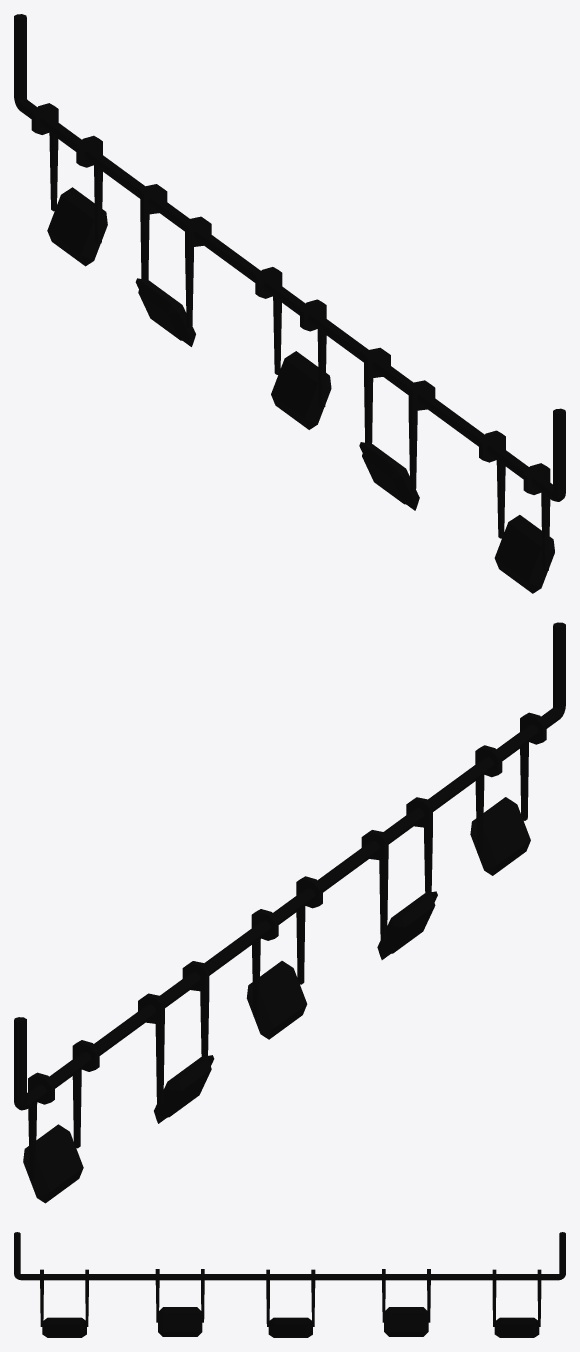
The model's file is StripLights_Off.glb.
3 views of the same model, one above another, from view 1: azimuth 30°, elevation 25°; view 2: azimuth 150°, elevation 25°; view 3: azimuth 270°, elevation 25° (orthographic). The views are drawn at different scales.
Parts seen in each view (by area): view 1: stripLights_off; view 2: stripLights_off; view 3: stripLights_off.
Boxes of the visible parts, left/top/right/bottom form: stripLights_off: left=14, top=14, right=565, bottom=593; stripLights_off: left=14, top=622, right=565, bottom=1203; stripLights_off: left=14, top=1232, right=565, bottom=1337.
Size of the model in its own units: 0.197 by 0.8289 by 4.
Materials: 1 (1 with a texture image).
